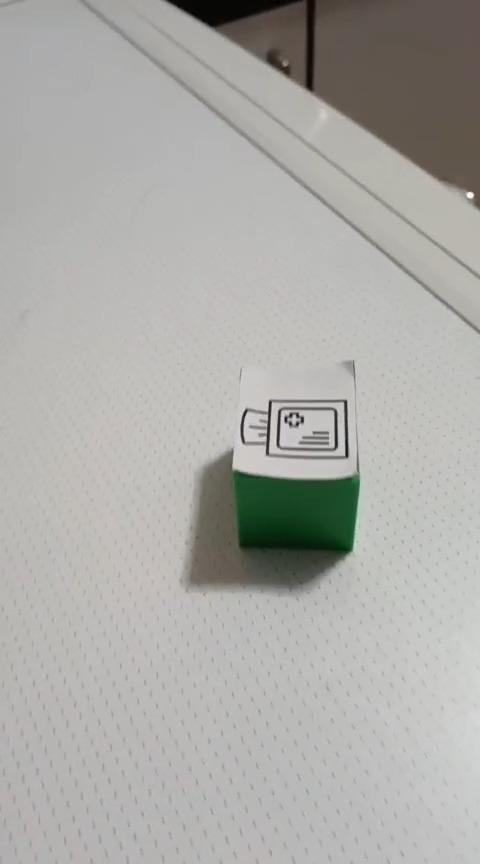Gauze: (230, 358, 360, 552)
